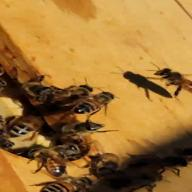Bee: (63, 75, 115, 118), (140, 63, 192, 103), (32, 147, 77, 175)
